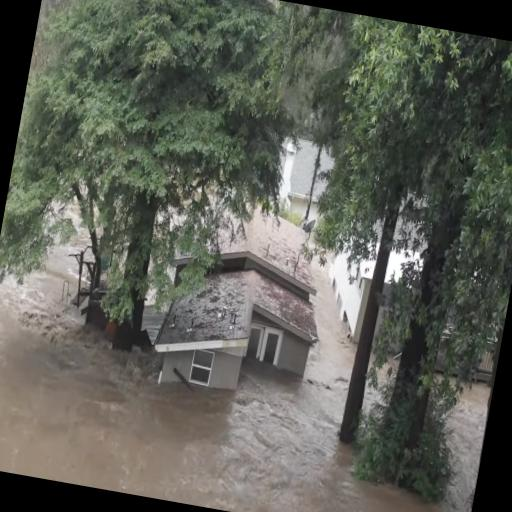flood: (0, 229, 489, 512)
house: (153, 283, 322, 409), (318, 266, 372, 347)
